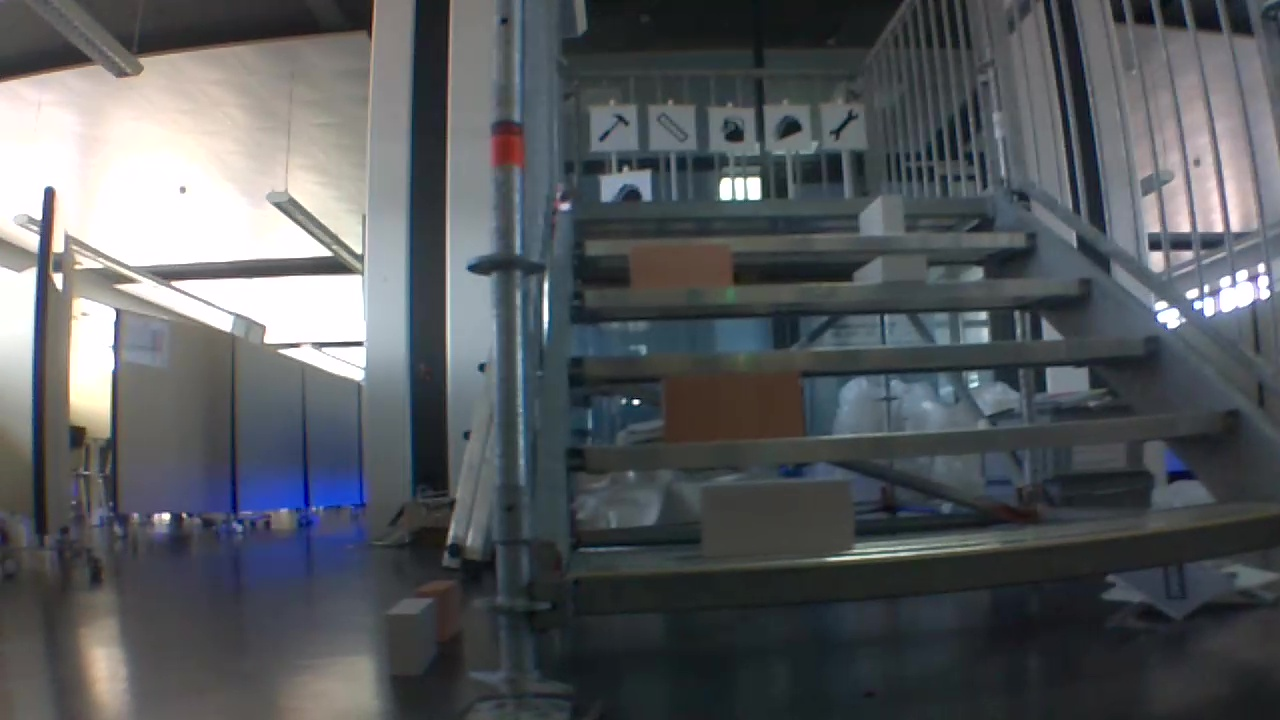brick: (702, 479, 854, 555), (666, 372, 802, 440), (629, 243, 728, 287), (383, 598, 438, 676), (418, 577, 458, 637), (857, 193, 903, 233), (853, 257, 926, 280)
bucket: (715, 109, 750, 147)
edge: (574, 514, 1279, 605), (569, 411, 1239, 468), (572, 335, 1163, 378), (571, 276, 1093, 307), (570, 232, 1036, 253), (572, 197, 995, 217)
hammer: (592, 109, 632, 145)
ruler: (652, 108, 692, 146)
stairs: (452, 3, 1280, 720)
steps: (558, 190, 1280, 624)
taco: (770, 110, 803, 144), (606, 179, 644, 202)
wrench: (825, 105, 862, 145)
